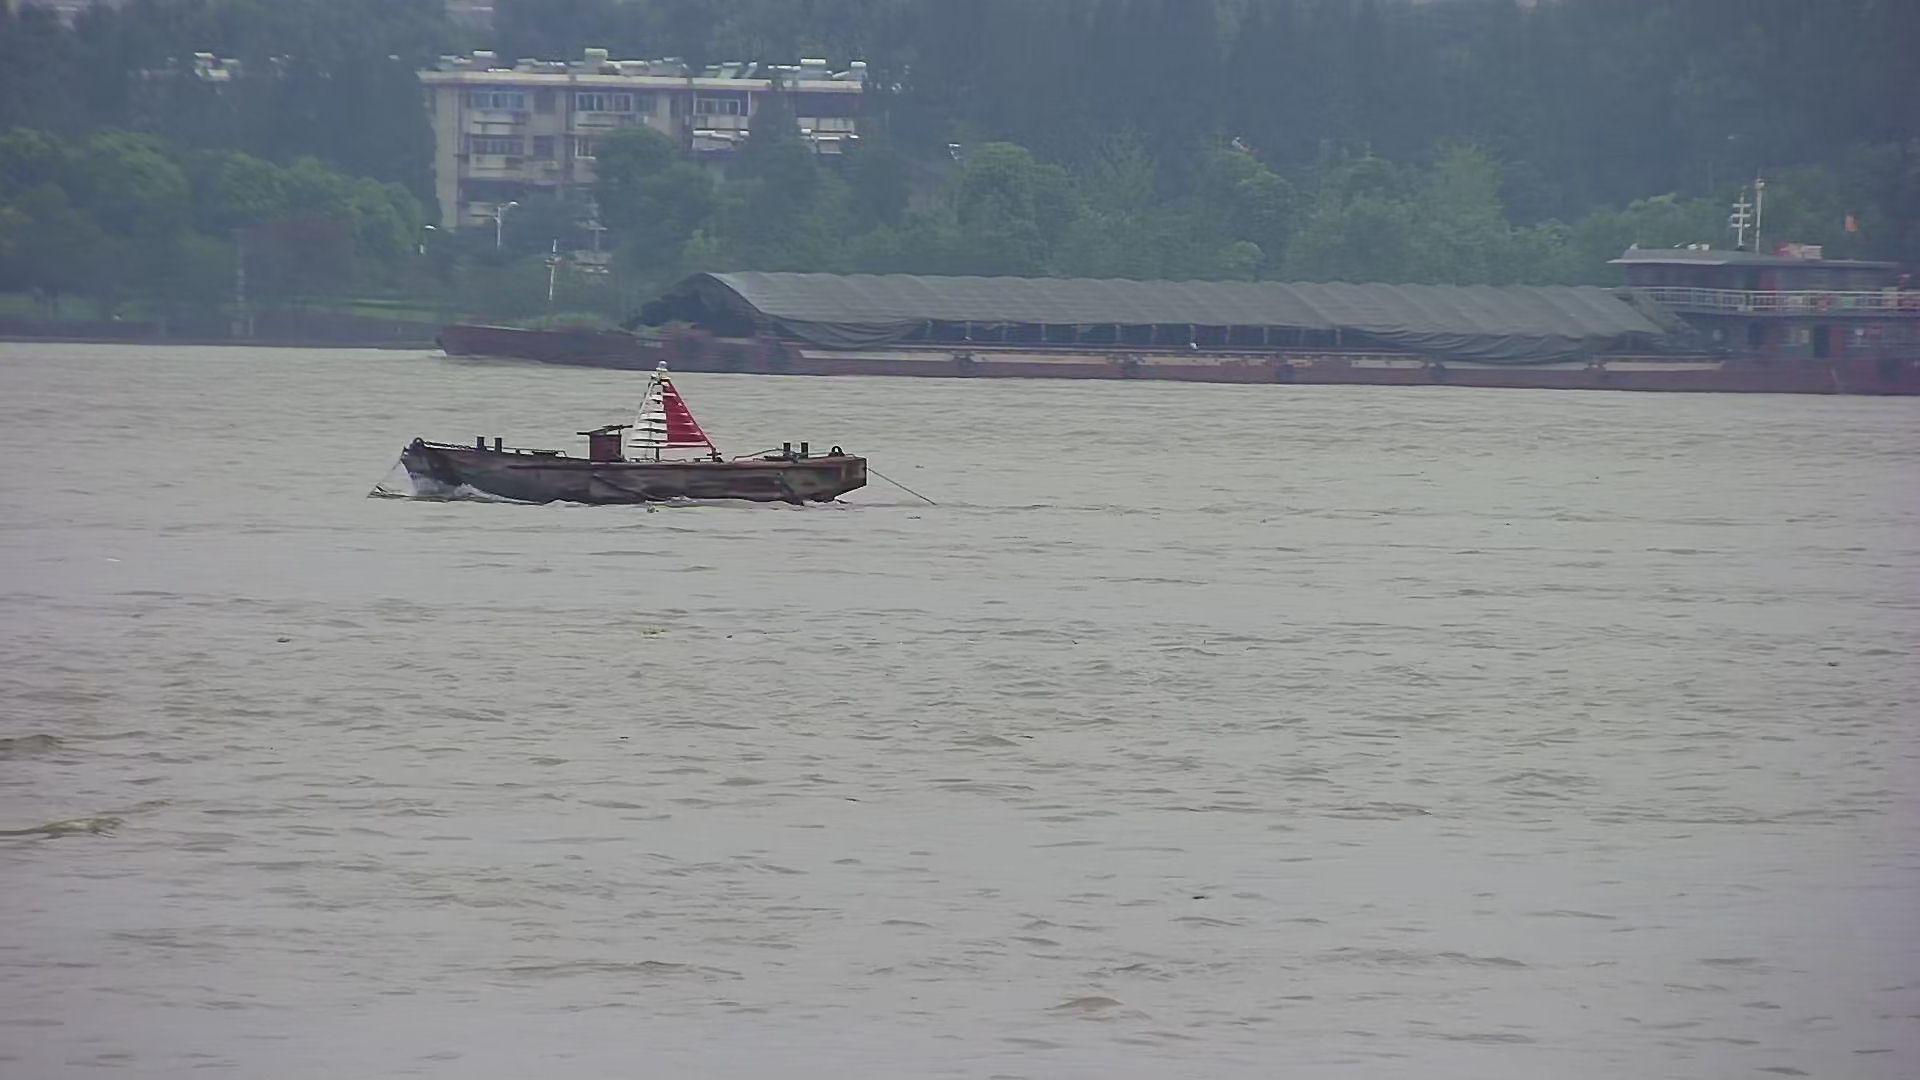boat: (376, 376, 876, 530)
ship: (409, 167, 1920, 411)
